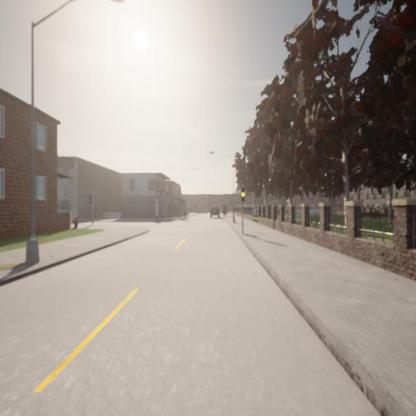traffic_light_orange: (241, 187, 245, 202)
